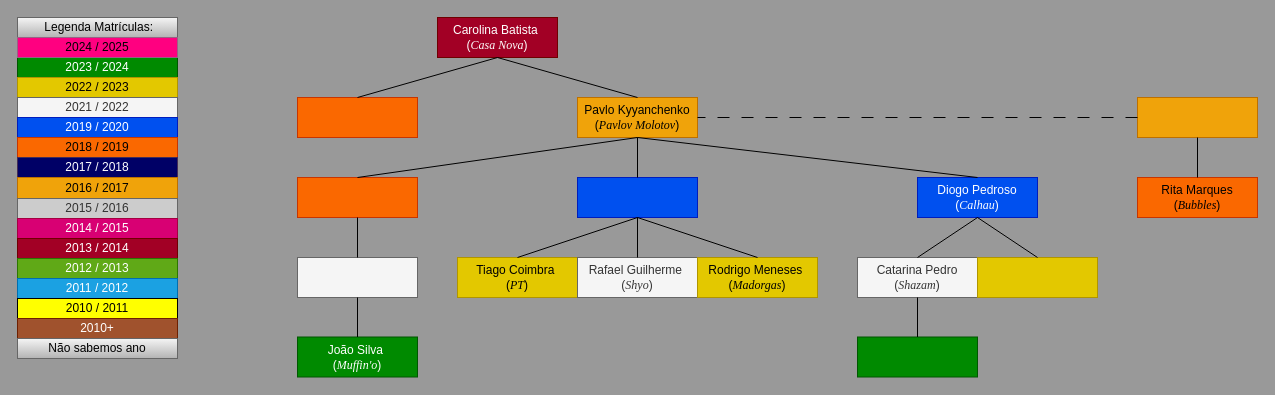
Image size: 1275x395. Some labels were removed from this diagram. Here are the shapes that lost their labels. From the top down, the centre of each, then its label:
At (357,117): "Miguel Estrela ( Zodiaco )".
At (1197,117): "Inês Durate ( Branca de Neve )".
At (357,197): "Beatriz Santos ( Pesos & CO. )".
At (637,197): "Gonçalo Eugênio ( Captião G )".
At (357,277): "Francisco Bernardino (( Não) da Tina )".
At (1037,277): "Rodrigo Gonçalves ( Eish )".
At (917,356): "Lucas Filipe ( Flash -1 )".
